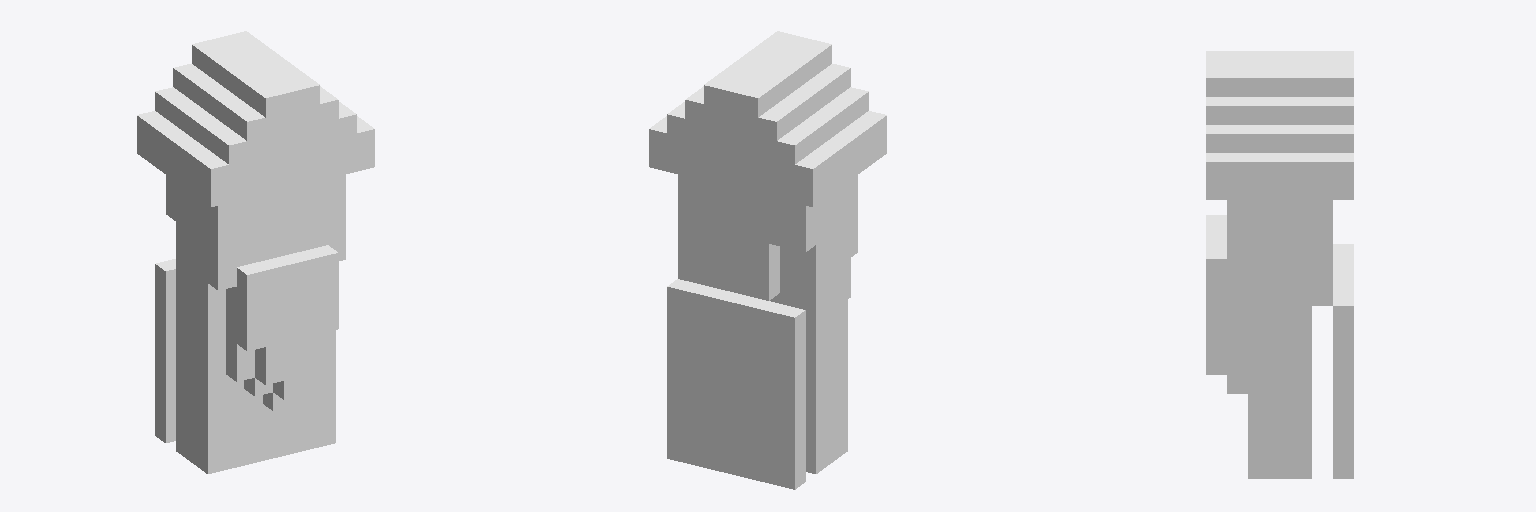
The model's file is Dorry_Bo.obj.
3 renders of one model, left to right at view 1: azimuth 30°, elevation 25°; view 2: azimuth 150°, elevation 25°; view 3: azimuth 270°, elevation 25°, orthographic.
Visible parts, largest first — view 1: object 1; view 2: object 1; view 3: object 1.
Boxes of the visible parts, x1=… form: object 1: x1=137, y1=31, x2=374, y2=473; object 1: x1=649, y1=31, x2=886, y2=489; object 1: x1=1206, y1=51, x2=1353, y2=478.
Size of the model in its own units: 0.9 by 2 by 0.7.